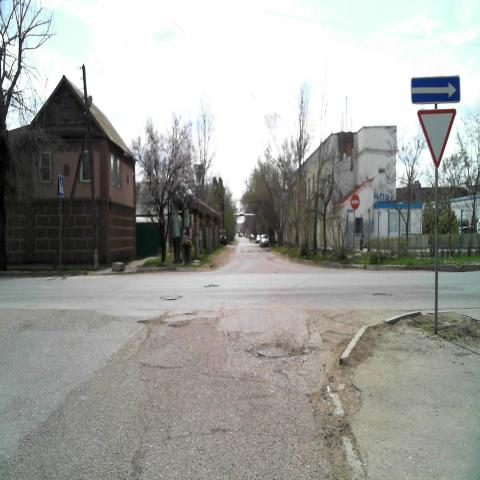5_7_1: (412, 73, 462, 105)
